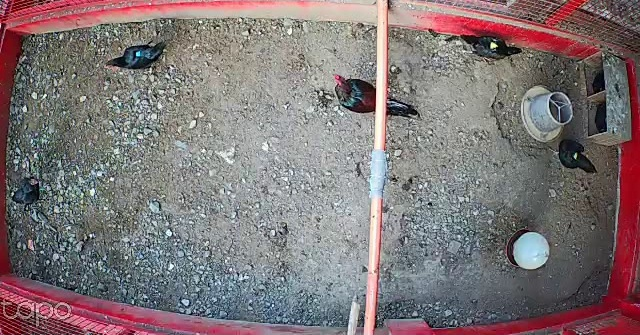Chicken: (101, 37, 166, 73), (458, 29, 526, 62), (550, 137, 597, 175), (10, 177, 46, 210)
Rooster: (327, 69, 420, 122)
Saddle_Color_Blue: (136, 49, 141, 56)
Saddle_Color_Yellow: (490, 41, 500, 51)
Saddle_Color_YellowGreen: (572, 152, 579, 159)
